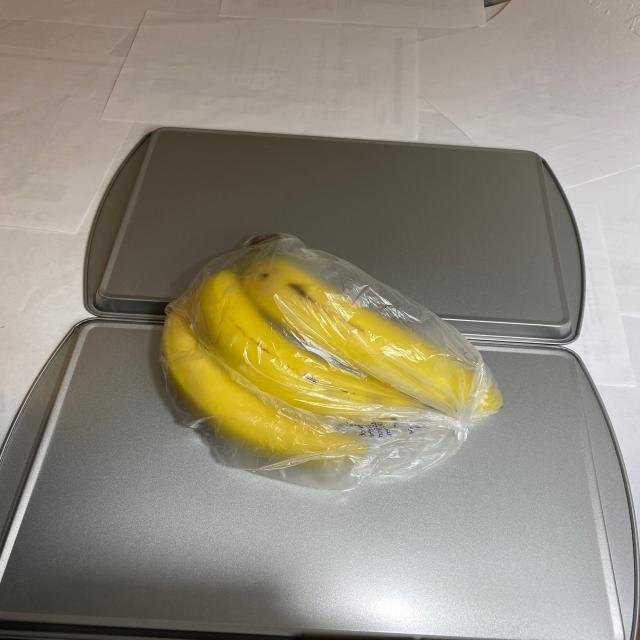banana: (153, 233, 512, 482)
